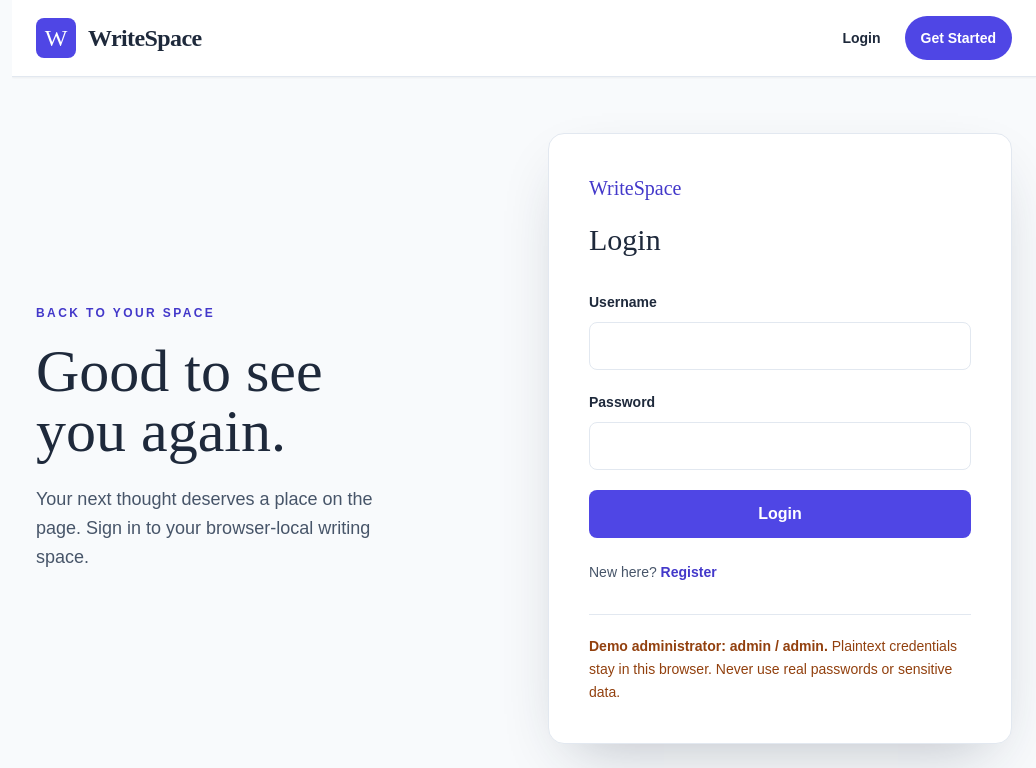
Test: forms and persistence › exchanges form entry links from /login
Step 1. Click the link "Register" → {"x": 689, "y": 572}, box [661,564,717,580]
(page scrolled)
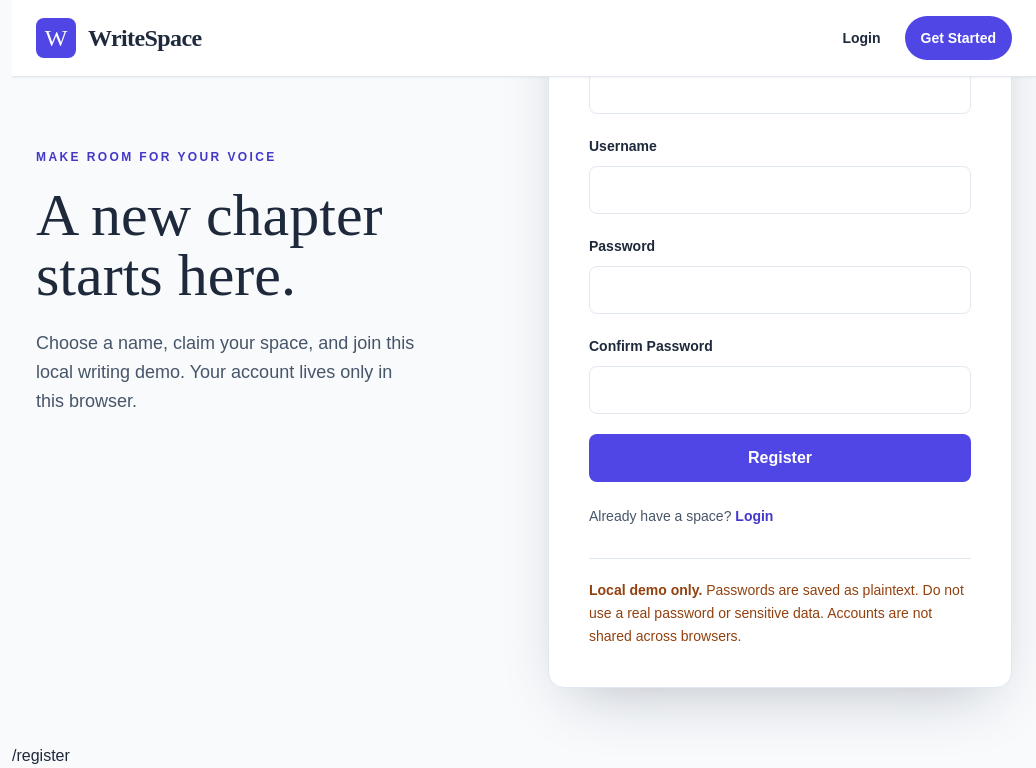
Expected: the text named "Current route" reads "/register", [12,747,70,764]
